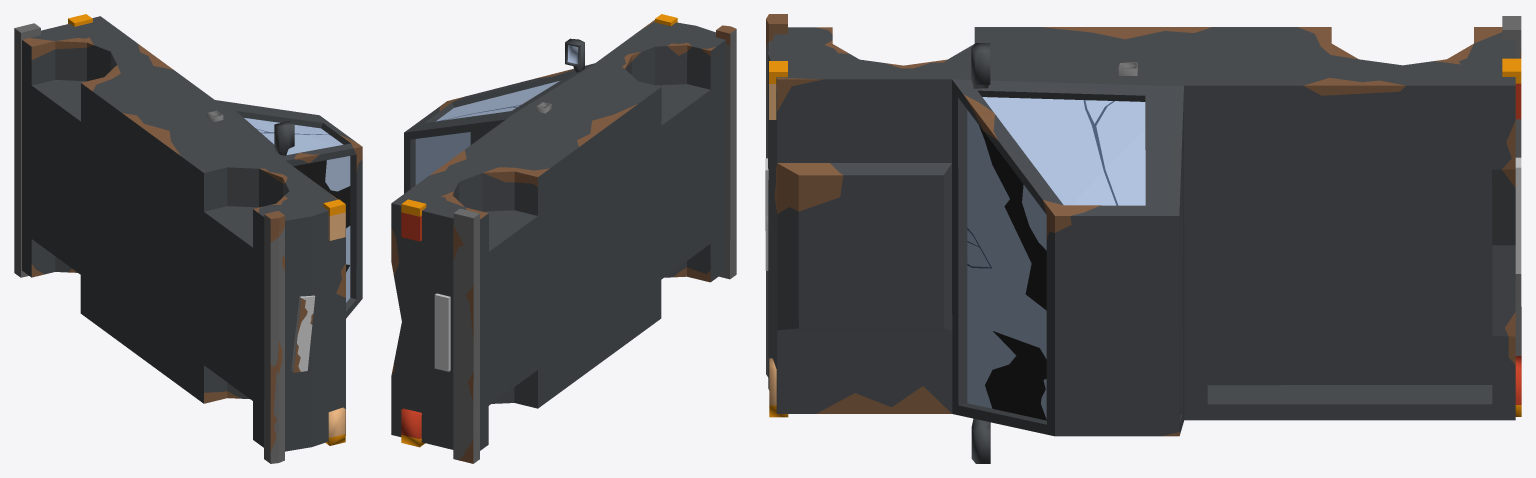
Rendered from OldCarBroke.fbx.
3 views of the same model, side by side, from view 1: azimuth 30°, elevation 25°; view 2: azimuth 150°, elevation 25°; view 3: azimuth 270°, elevation 25° (orthographic). The views are drawn at different scales.
Visible parts, largest first — view 1: OldCar_fracturepart13, OldCar_fracturepart6, OldCar_fracturepart14, OldCar_fracturepart15, OldCar_fracturepart16, OldCar_fracturepart9, OldCar_fracturepart17, OldCar_fracturepart1, OldCar_fracturepart25, OldCar_fracturepart4, OldCar_fracturepart6_2, OldCar_fracturepart3 (+18 smaller); view 2: OldCar_fracturepart13, OldCar_fracturepart20, OldCar_fracturepart9, OldCar_fracturepart6, OldCar_fracturepart16, OldCar_fracturepart25, OldCar_fracturepart15, OldCar_fracturepart17, OldCar_fracturepart4, OldCar_fracturepart1, OldCar_fracturepart10, OldCar_fracturepart8 (+16 smaller); view 3: OldCar_fracturepart20, OldCar_fracturepart13, OldCar_fracturepart23, OldCar_fracturepart4, OldCar_fracturepart25, OldCar_fracturepart14, OldCar_fracturepart9, OldCar_fracturepart2, OldCar_fracturepart8, OldCar_fracturepart10, OldCar_fracturepart19, OldCar_fracturepart22 (+9 smaller).
Part boxes in pixels (left/top/right/bottom): OldCar_fracturepart13: left=22, top=19, right=192, bottom=173; OldCar_fracturepart6: left=214, top=289, right=345, bottom=451; OldCar_fracturepart14: left=216, top=222, right=345, bottom=360; OldCar_fracturepart15: left=168, top=141, right=274, bottom=292; OldCar_fracturepart16: left=141, top=239, right=233, bottom=403; OldCar_fracturepart9: left=65, top=169, right=141, bottom=314; OldCar_fracturepart17: left=127, top=128, right=195, bottom=264; OldCar_fracturepart1: left=22, top=124, right=78, bottom=272; OldCar_fracturepart25: left=226, top=147, right=345, bottom=240; OldCar_fracturepart4: left=136, top=84, right=278, bottom=144; OldCar_fracturepart6_2: left=264, top=285, right=284, bottom=463; OldCar_fracturepart3: left=287, top=133, right=362, bottom=199; OldCar_fracturepart13: left=396, top=135, right=594, bottom=290; OldCar_fracturepart20: left=391, top=200, right=522, bottom=398; OldCar_fracturepart9: left=522, top=196, right=598, bottom=404; OldCar_fracturepart6: left=664, top=109, right=725, bottom=282; OldCar_fracturepart16: left=599, top=218, right=676, bottom=344; OldCar_fracturepart25: left=555, top=20, right=725, bottom=117; OldCar_fracturepart15: left=563, top=75, right=687, bottom=190; OldCar_fracturepart17: left=585, top=111, right=652, bottom=243; OldCar_fracturepart4: left=459, top=79, right=607, bottom=148; OldCar_fracturepart1: left=450, top=296, right=535, bottom=439; OldCar_fracturepart10: left=391, top=350, right=529, bottom=450; OldCar_fracturepart8: left=404, top=100, right=481, bottom=193; OldCar_fracturepart20: left=1333, top=77, right=1515, bottom=374; OldCar_fracturepart13: left=1169, top=27, right=1515, bottom=199; OldCar_fracturepart23: left=820, top=245, right=1009, bottom=423; OldCar_fracturepart4: left=1009, top=27, right=1249, bottom=251; OldCar_fracturepart25: left=768, top=27, right=1005, bottom=167; OldCar_fracturepart14: left=768, top=65, right=882, bottom=332; OldCar_fracturepart9: left=1207, top=154, right=1347, bottom=354; OldCar_fracturepart2: left=853, top=106, right=1009, bottom=281; OldCar_fracturepart8: left=1054, top=145, right=1181, bottom=326; OldCar_fracturepart10: left=1330, top=308, right=1515, bottom=420; OldCar_fracturepart19: left=1029, top=324, right=1181, bottom=436; OldCar_fracturepart22: left=1179, top=275, right=1349, bottom=428.
Size of the model in its own units: 415 by 589 by 984.
1 material, 1 textured.
